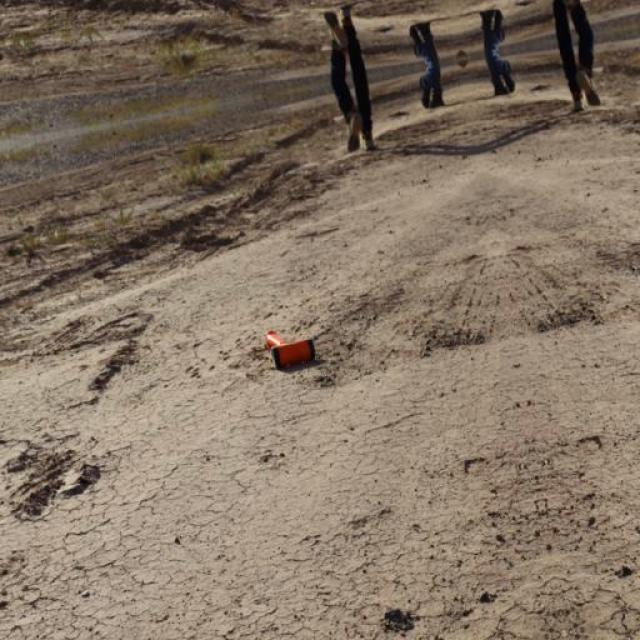mallet: (263, 328, 315, 370)
